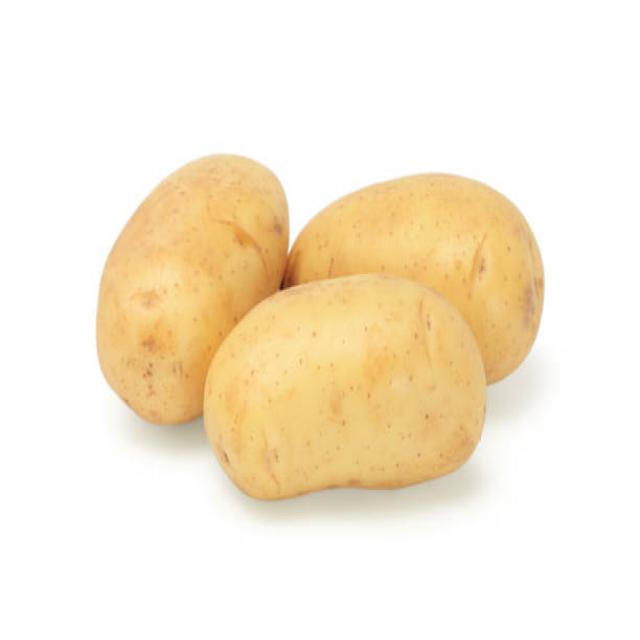Potato: (204, 269, 486, 498), (89, 150, 209, 432), (296, 166, 550, 288)
